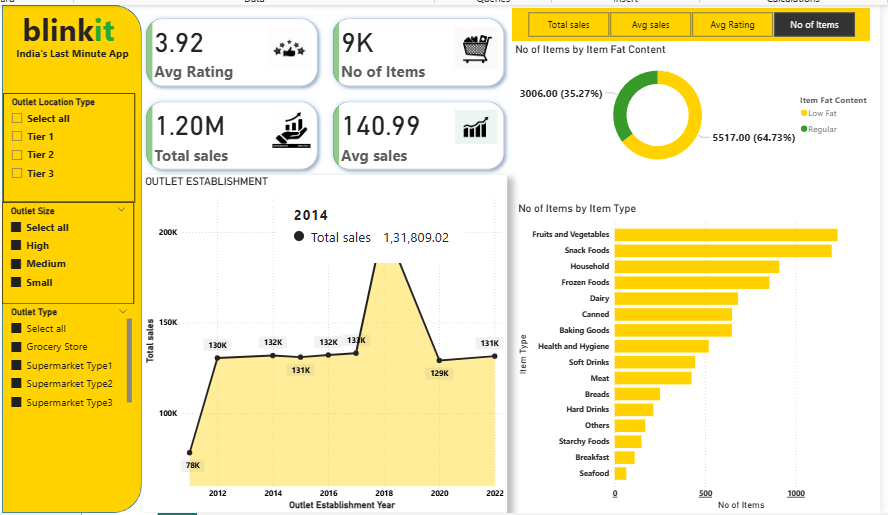

The dashboard page shown, as its layout file describes it:
{"tool":"powerbi","page":{"name":"Page 1","canvas":[1400,800],"ordinal":0},"visuals":[{"type":"shape","box":[17.3,0,220.5,800],"z":0},{"type":"textbox","box":[16.5,0,209.4,79],"z":1000},{"type":"textbox","box":[34.6,59.8,192.1,55.1],"z":2000},{"type":"cardVisual","fields":{"Data":["Table1.Avg Rating","Table1.No of Items","Table1.Total sales","Table1.Avg sales"]},"box":[225.2,0,600,277.2],"z":3000},{"type":"slicer","fields":{"Values":["Metrics.Metrics"]},"box":[820.5,4.7,563.8,52],"z":4000},{"type":"donutChart","fields":{"Y":["Table1.Total sales"],"Category":["Table1.Item Fat Content"]},"box":[820.5,59.8,579.5,207.9],"z":5000},{"type":"cardVisual","fields":{"Data":["Table1.Total sales"]},"box":[292.9,400,94.5,56.7],"z":6000},{"type":"barChart","fields":{"Y":["Table1.Total sales"],"Category":["Table1.Item Type"]},"box":[825.2,310.2,574.8,489.8],"z":8000},{"type":"lineChart","title":"OUTLET ESTABLISHMENT","fields":{"Category":["Table1.Outlet Establishment Year"],"Y":["Table1.Total sales"]},"box":[237.8,267.7,574.8,532.3],"z":9000},{"type":"slicer","title":"OUTLET LOCATION TYPE","fields":{"Values":["Table1.Outlet Location Type"]},"box":[18.9,138.6,207.9,171.7],"z":13000},{"type":"slicer","title":"OUTLET SIZE","fields":{"Values":["Table1.Outlet Size"]},"box":[17.3,310.2,207.9,160.6],"z":14000},{"type":"slicer","fields":{"Values":["Table1.Outlet Type"]},"box":[18.9,470.9,207.9,171.7],"z":16002}]}

Visuals, with their boxes in screenshot pixels (x1, y1, x2, y2):
shape: [left=2, top=2, right=139, bottom=503]
textbox: [left=1, top=2, right=132, bottom=52]
textbox: [left=12, top=40, right=133, bottom=74]
cardVisual - Table1.Avg Rating x Table1.No of Items: [left=132, top=2, right=507, bottom=176]
slicer - Metrics.Metrics: [left=504, top=5, right=857, bottom=38]
donutChart - Table1.Total sales x Table1.Item Fat Content: [left=504, top=40, right=866, bottom=170]
cardVisual - Table1.Total sales: [left=174, top=253, right=233, bottom=288]
barChart - Table1.Total sales x Table1.Item Type: [left=507, top=196, right=866, bottom=503]
"OUTLET ESTABLISHMENT" lineChart: [left=139, top=170, right=499, bottom=503]
"OUTLET LOCATION TYPE" slicer: [left=3, top=89, right=133, bottom=196]
"OUTLET SIZE" slicer: [left=2, top=196, right=132, bottom=297]
slicer - Table1.Outlet Type: [left=3, top=297, right=133, bottom=404]
